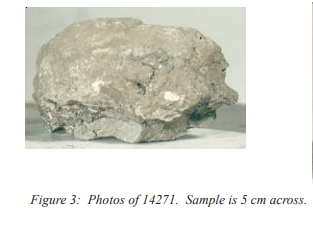Breccia: (31, 10, 243, 142), (92, 40, 197, 122), (86, 52, 196, 127)
